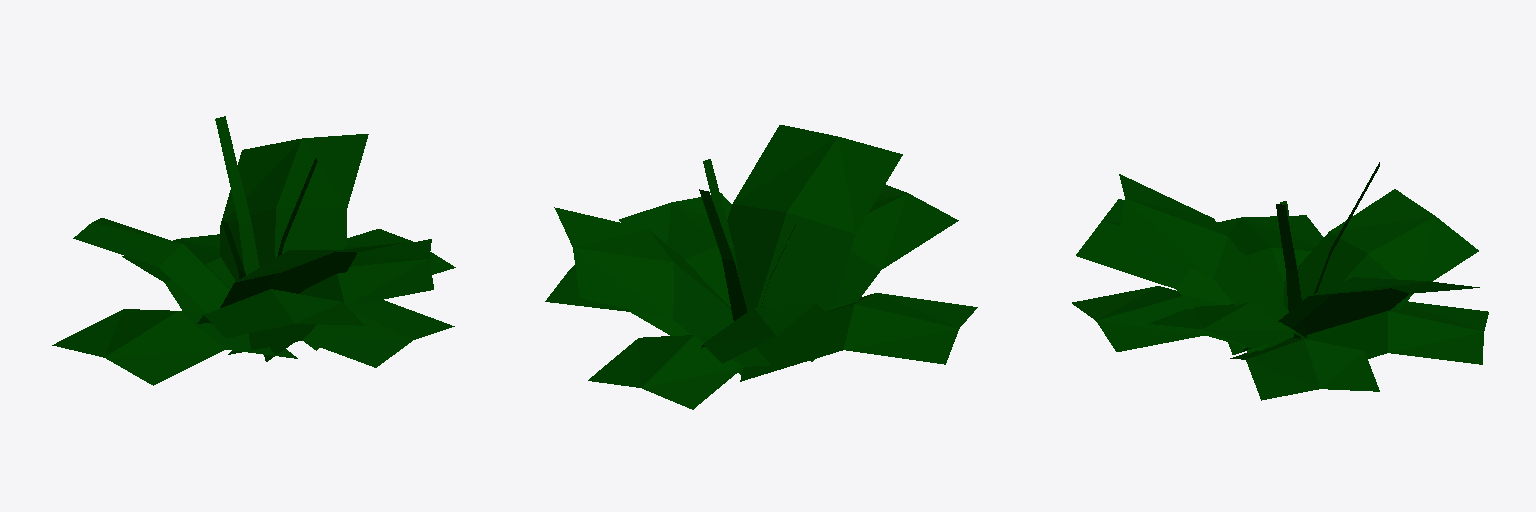
Rendered from helecho.obj.
The picture shows the model from 3 angles: view 1: azimuth 30°, elevation 25°; view 2: azimuth 150°, elevation 25°; view 3: azimuth 270°, elevation 25°; orthographic projection.
Parts seen in each view (by area): view 1: SM_Grass_08_Plane_998; view 2: SM_Grass_08_Plane_998; view 3: SM_Grass_08_Plane_998.
Part boxes in pixels (left/top/right/bottom): SM_Grass_08_Plane_998: left=52, top=116, right=455, bottom=385; SM_Grass_08_Plane_998: left=545, top=125, right=977, bottom=409; SM_Grass_08_Plane_998: left=1072, top=162, right=1488, bottom=400.
Size of the model in its own units: 0.5008 by 0.2472 by 0.4756.